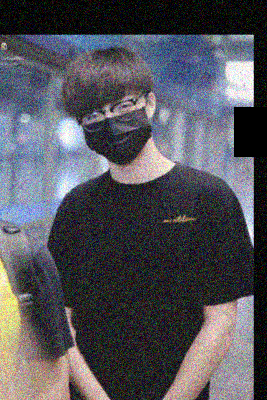with_mask: (80, 91, 153, 165)
